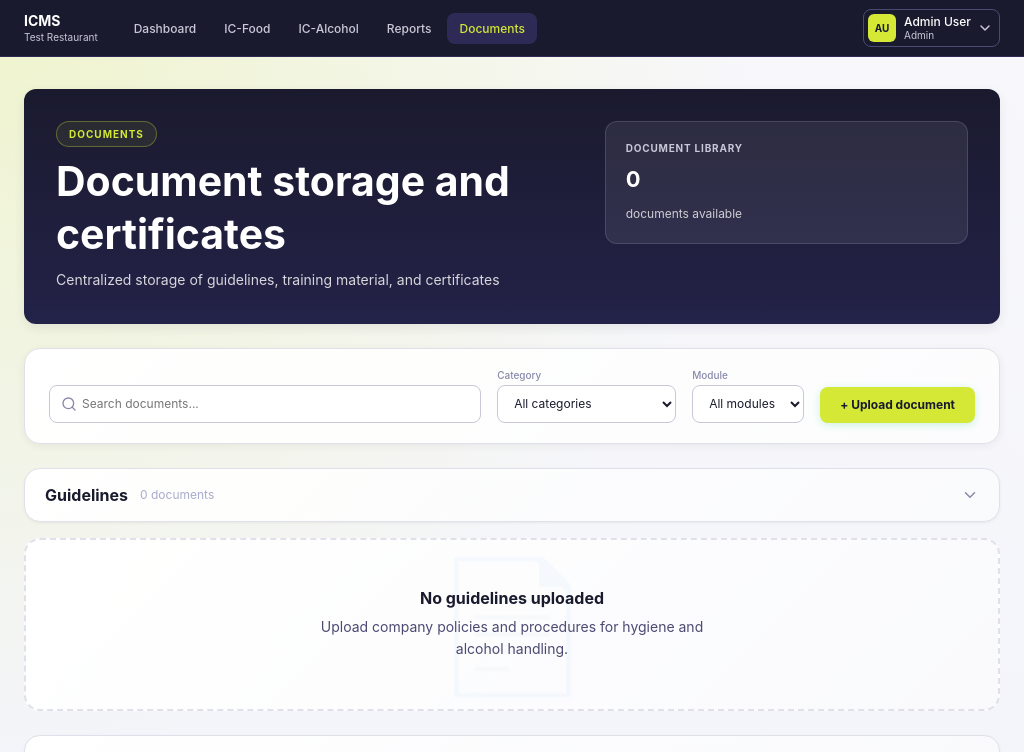
Test: Documents Page › as admin › switches between file and link upload modes
Click the button "+ Upload document": (898, 405) [820, 387, 975, 423]
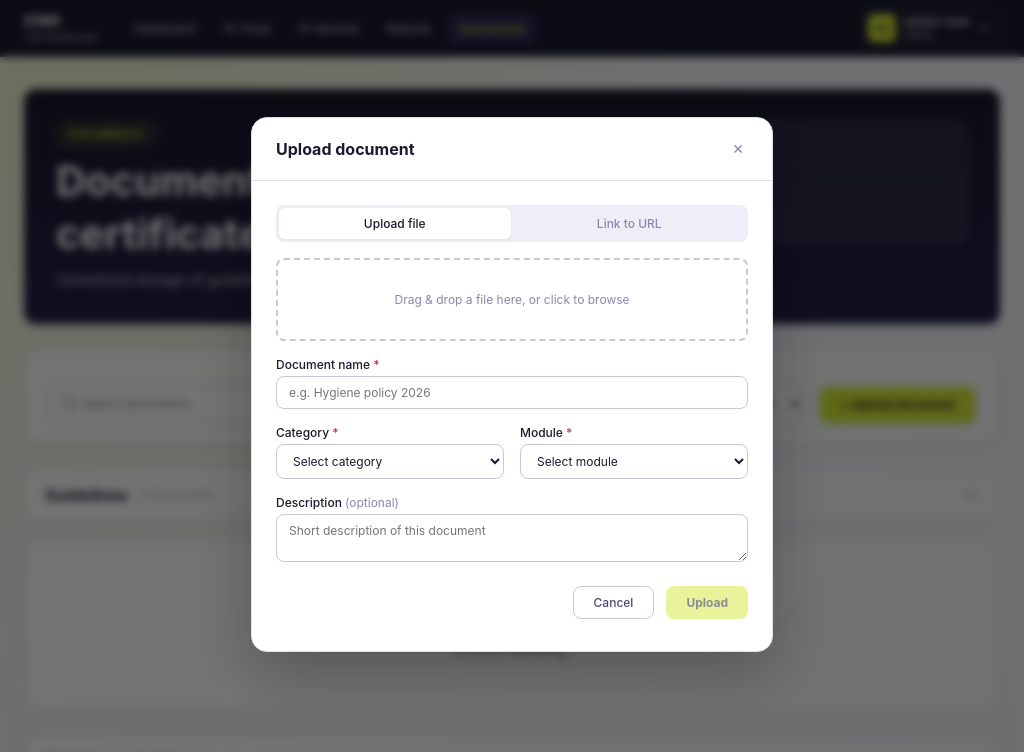
Check: the element with class "drop-zone" is shown, box [276, 258, 748, 341]
Click the button "Link to URL": (630, 224) [514, 208, 746, 239]
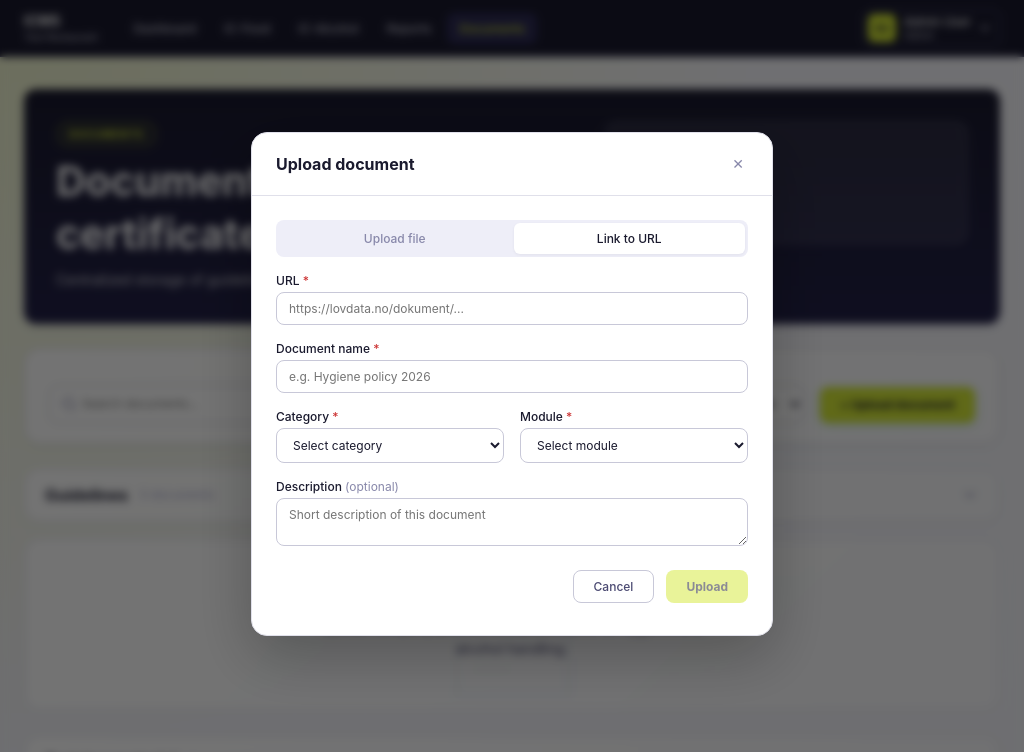
Check: the field with id "upload-url" is shown, box [276, 292, 748, 325]
Check: the element with class "drop-zone" is gone
